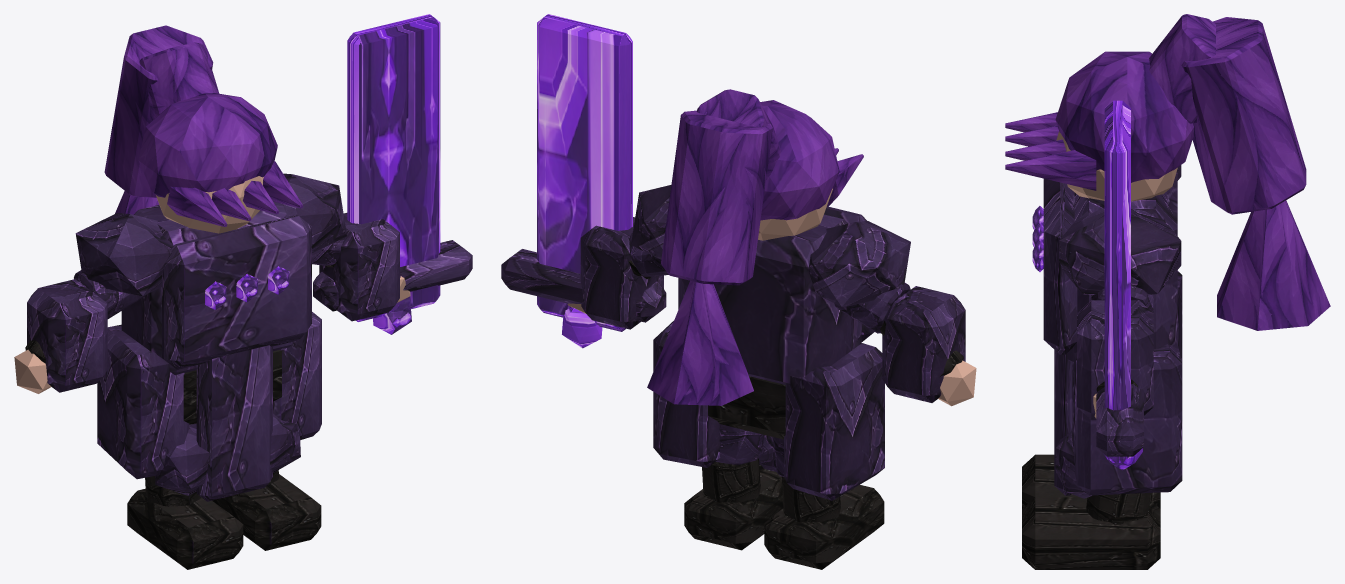
Rendered from knight_phase1.glb.
3 views of the same model, side by side, from view 1: azimuth 30°, elevation 25°; view 2: azimuth 150°, elevation 25°; view 3: azimuth 270°, elevation 25° (orthographic). The views are drawn at different scales.
Visible parts, largest first — view 1: knight_Low; view 2: knight_Low; view 3: knight_Low.
Part boxes in pixels (x1,y1,x2,y2): knight_Low: [14, 14, 472, 569]; knight_Low: [501, 14, 976, 569]; knight_Low: [1005, 14, 1330, 569].
Bounding box in the file's own units: 2.44 × 2.37 × 1.36.
Materials: 5 (4 with a texture image).
